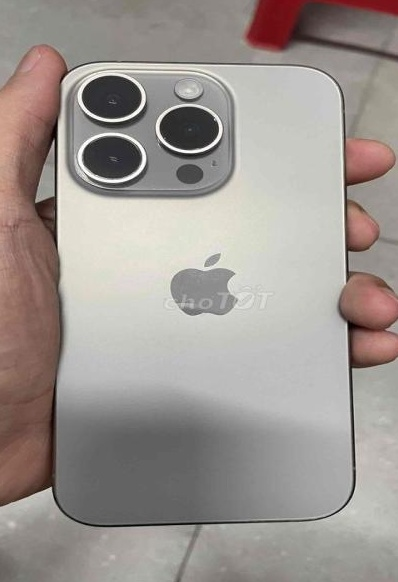physical_damage: (40, 245, 79, 392)
scratch: (70, 68, 233, 194)
